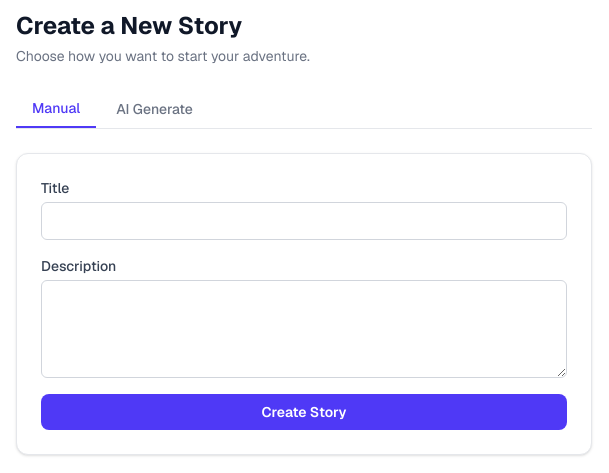
Test case: NewStoryPage › clicking "AI Generate" tab switches to AI mode
This screenshot has width=609, height=473.
Click the button "AI Generate". click: (154, 109)
box: [100, 90, 209, 128]
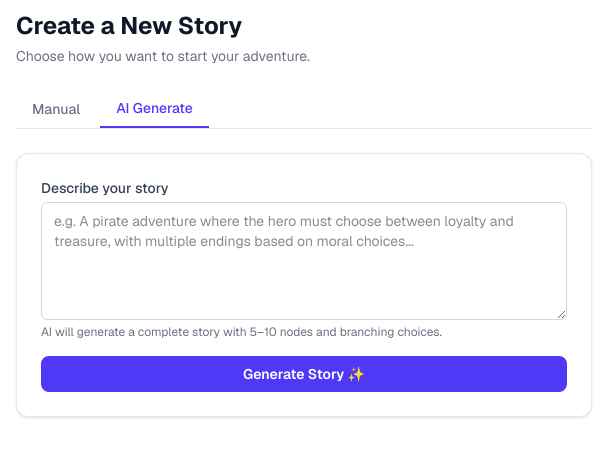
Check: the text box labelled "Describe your story" is shown, box [41, 202, 567, 320]
